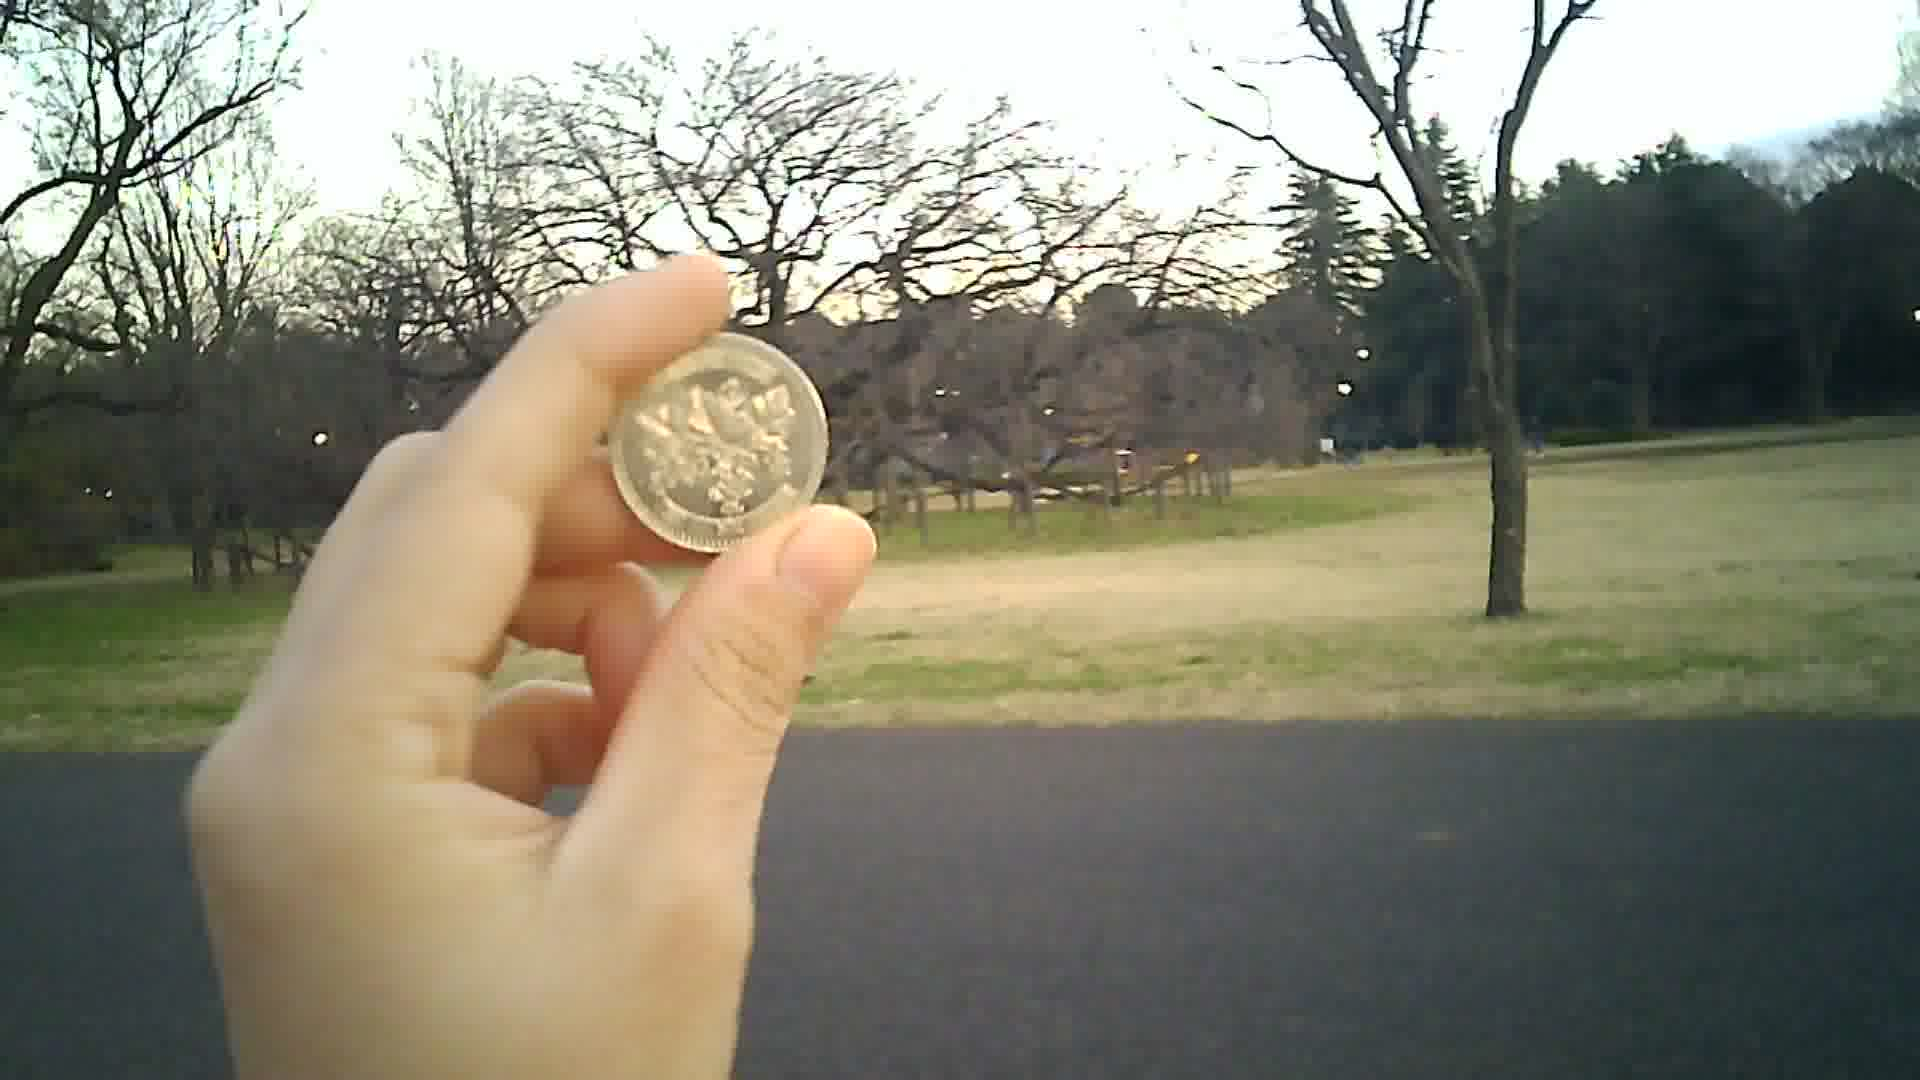500 Yen: (604, 320, 835, 555)
